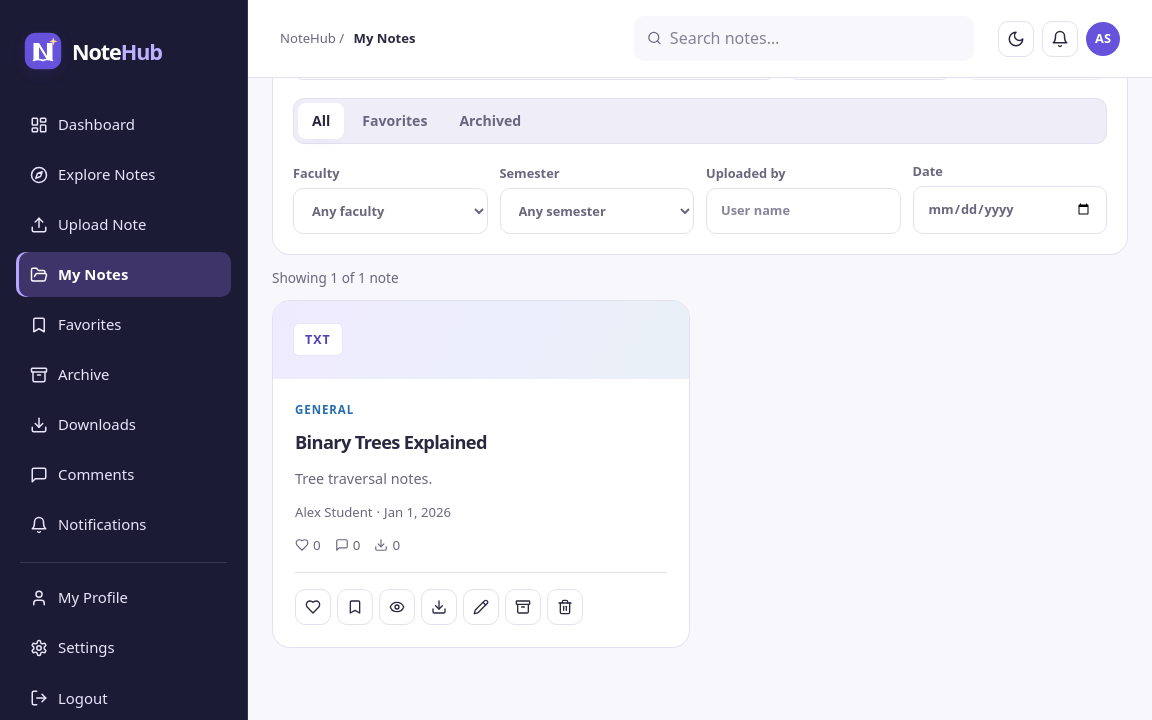
asynchronous note workflows › preserves notes when deletion is cancelled and removes them after confirmation
(page scrolled)
Click the button named "Delete Binary Trees Explained" at (565, 606), box x1=547 y1=588 x2=583 y2=624
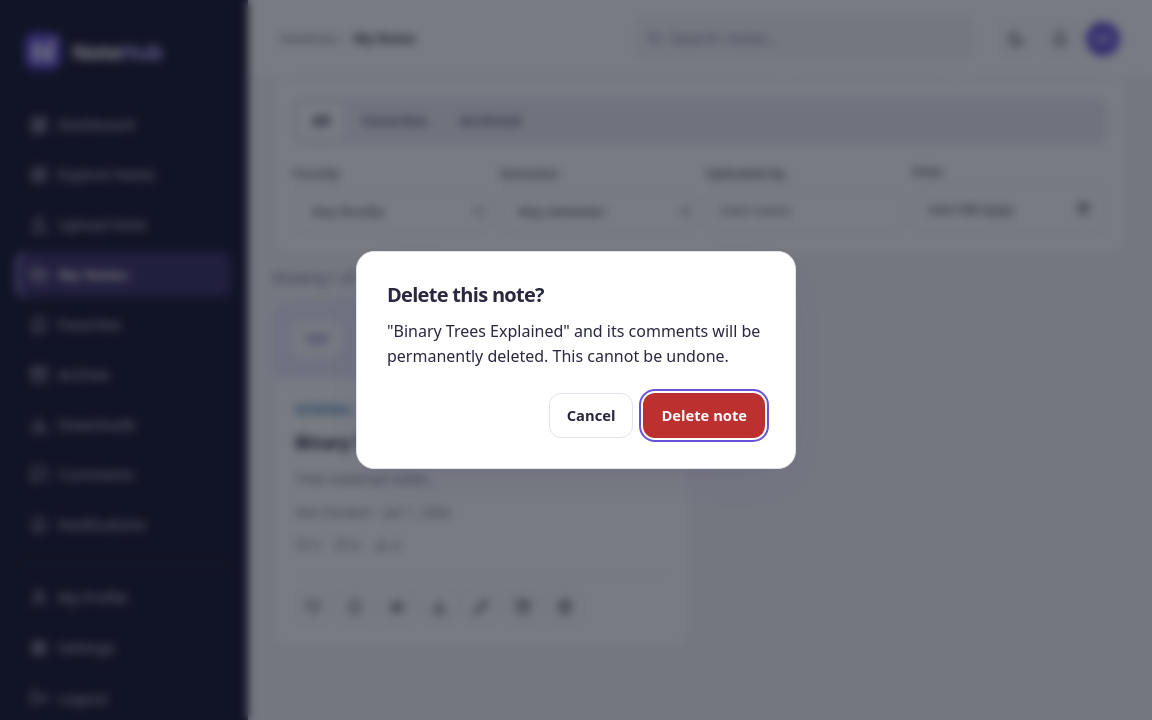
Click the button "Cancel" at (591, 415), box x1=549 y1=393 x2=633 y2=438
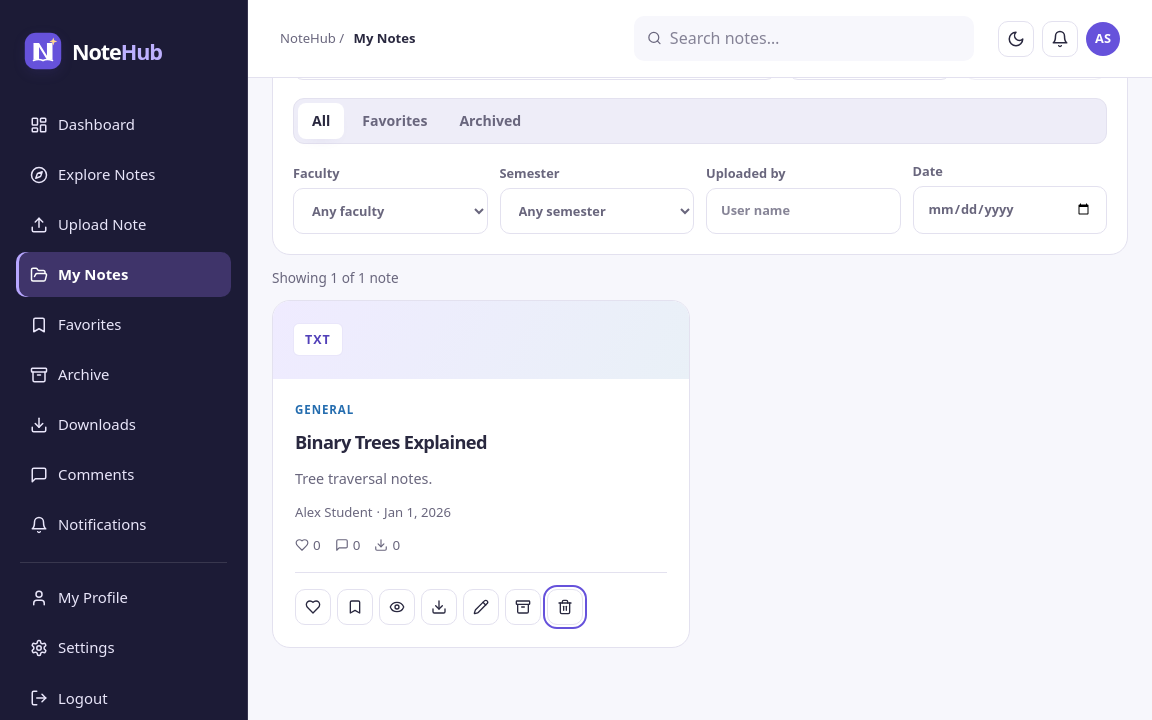
Click the button named "Delete Binary Trees Explained" at (565, 606), box x1=547 y1=588 x2=583 y2=624
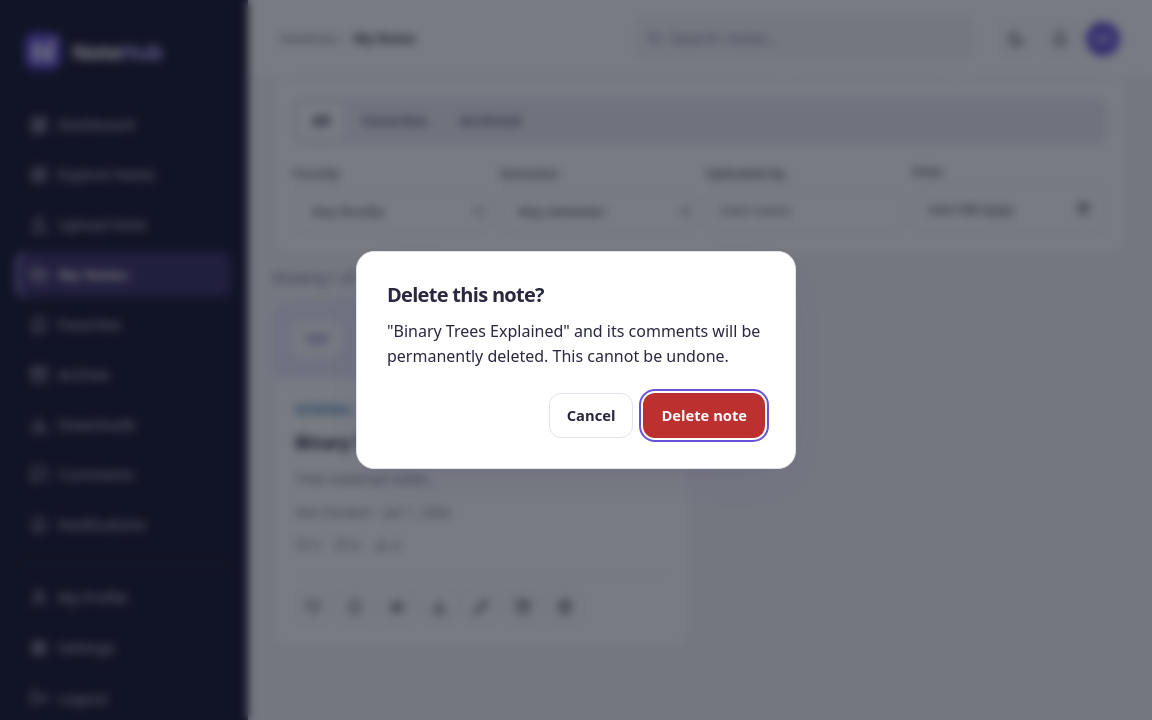
Click the button "Delete note" at (704, 415), box x1=643 y1=393 x2=765 y2=438
(page scrolled)
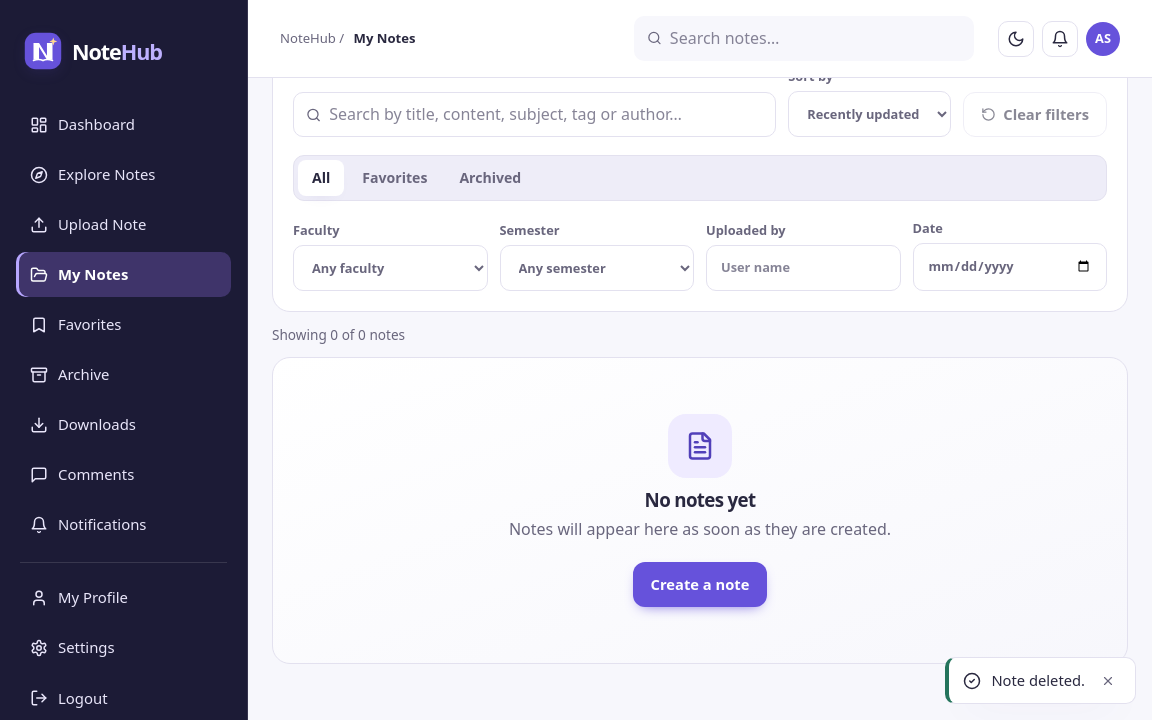
Check: the link "Binary Trees Explained" is gone
